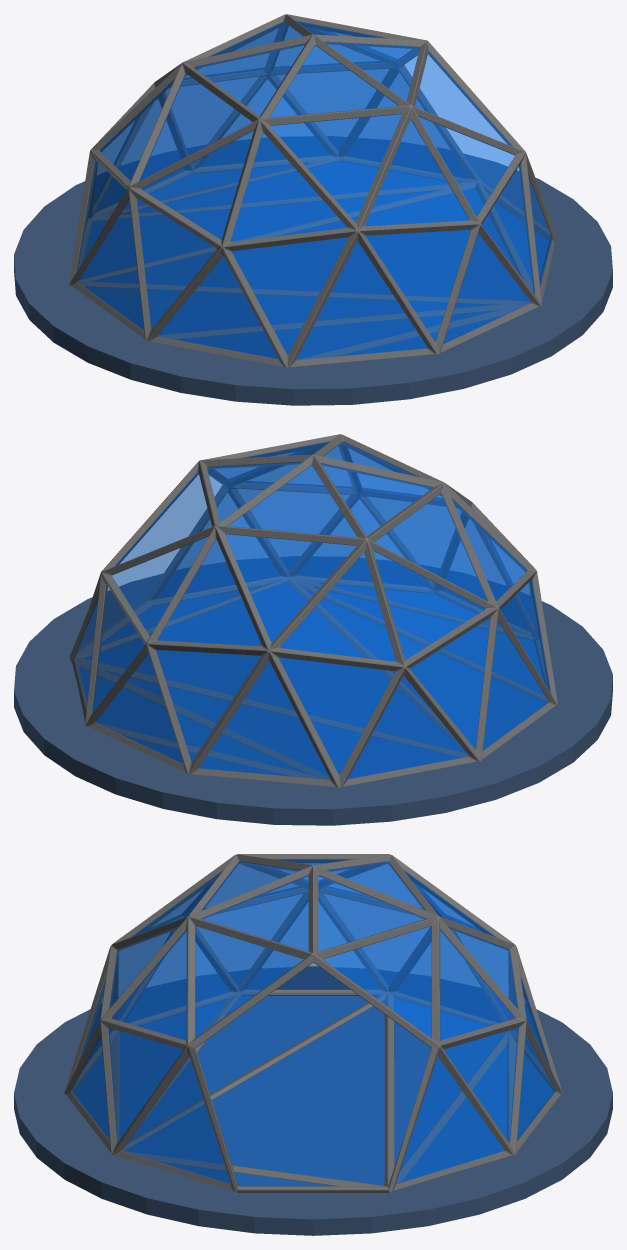
File: medical.glb
3 renders of one model, top to bottom at view 1: azimuth 30°, elevation 25°; view 2: azimuth 150°, elevation 25°; view 3: azimuth 270°, elevation 25°, orthographic.
Visible parts, largest first — view 1: Icosphere, Hab_Dome_Foundation.001; view 2: Icosphere, Hab_Dome_Foundation.001; view 3: Icosphere, Hab_Dome_Foundation.001.
Part boxes in pixels (box(x1,y1,x2,y2)): Icosphere: box(69, 14, 557, 367); Hab_Dome_Foundation.001: box(14, 136, 612, 405); Icosphere: box(69, 434, 557, 787); Hab_Dome_Foundation.001: box(14, 556, 612, 825); Icosphere: box(64, 854, 562, 1192); Hab_Dome_Foundation.001: box(14, 966, 612, 1235).
Bounding box in the file's own units: 43.13 × 19.36 × 43.13.
